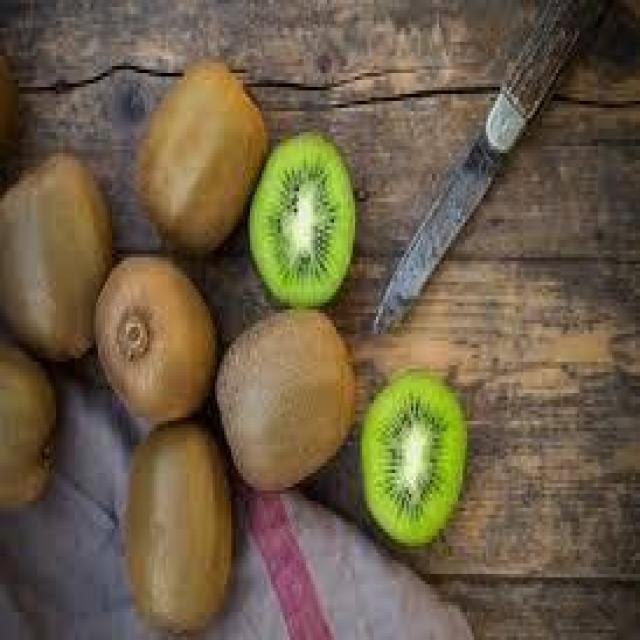kiwi: (217, 310, 355, 490), (128, 421, 236, 633), (136, 59, 254, 251), (360, 369, 467, 546), (98, 261, 215, 414), (2, 156, 91, 355), (259, 132, 355, 306), (2, 341, 61, 511)
